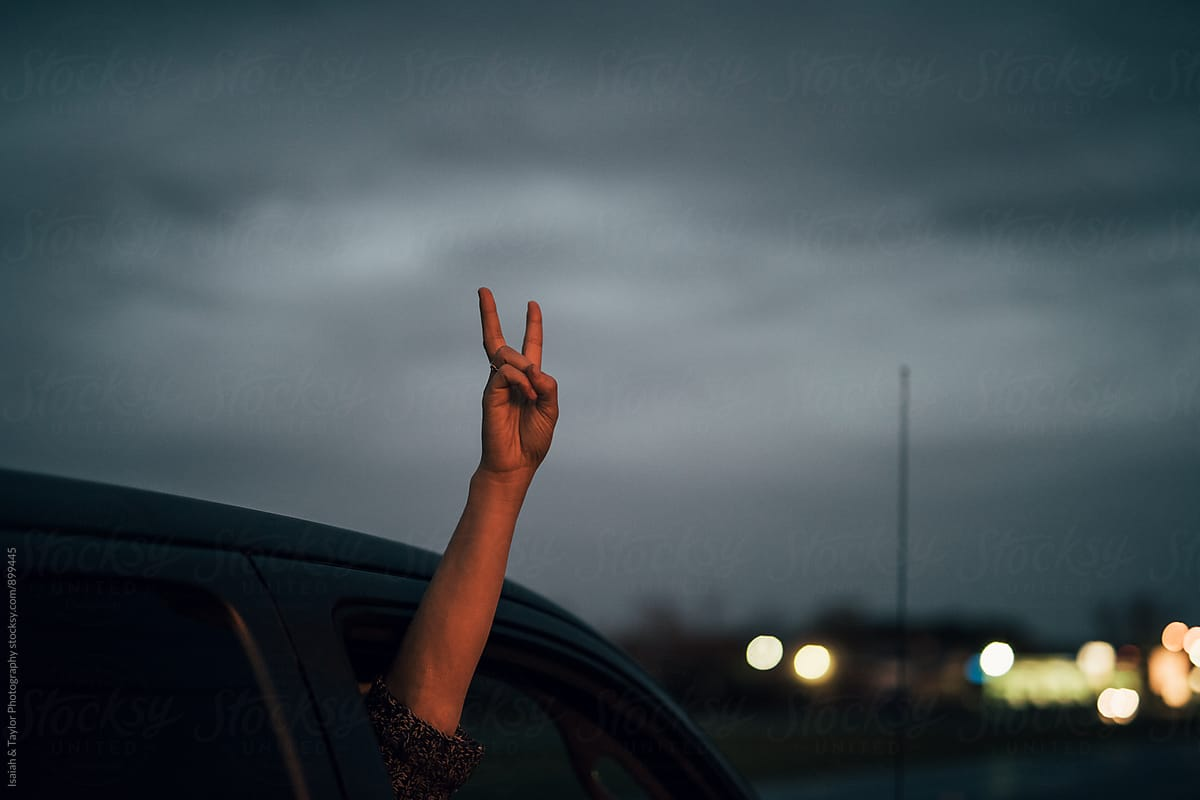peacesign: (463, 281, 575, 491)
